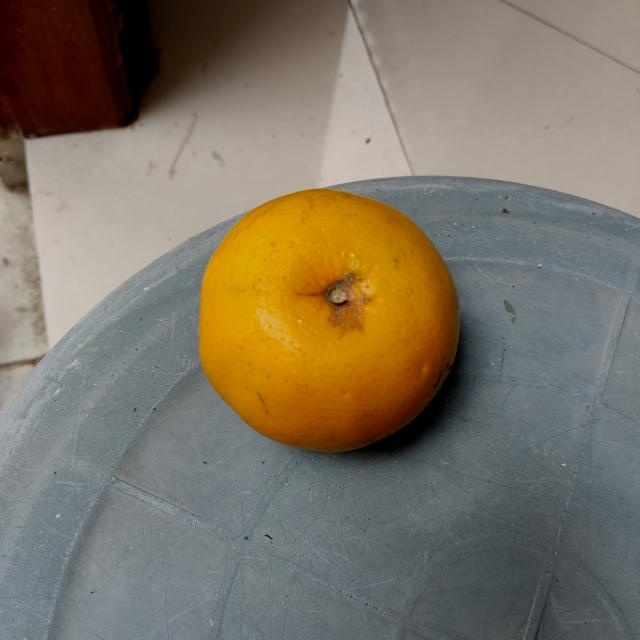agrume: (196, 185, 464, 463)
